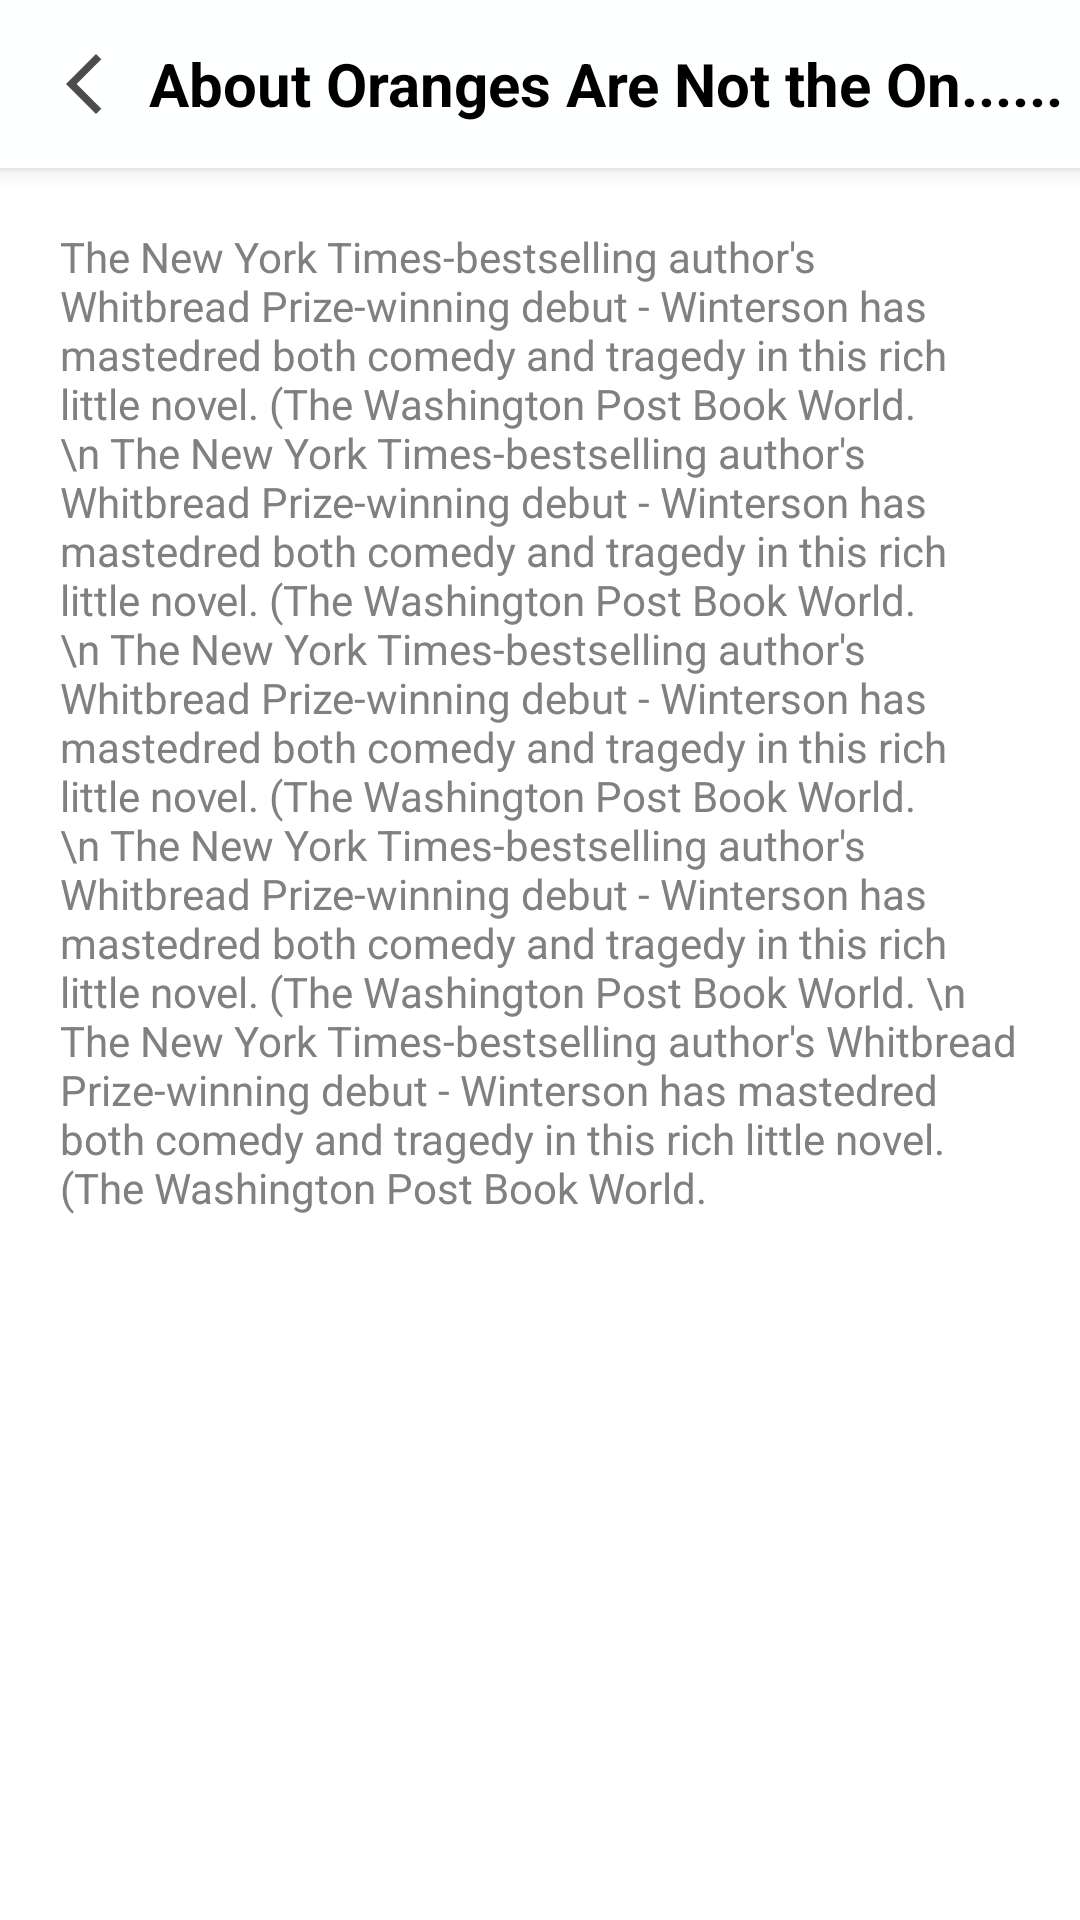

Icons on this 1080w x 1920h Android screen, each with its box as (x1, y1, x2, y2):
arrow back: (66, 54, 101, 114)
